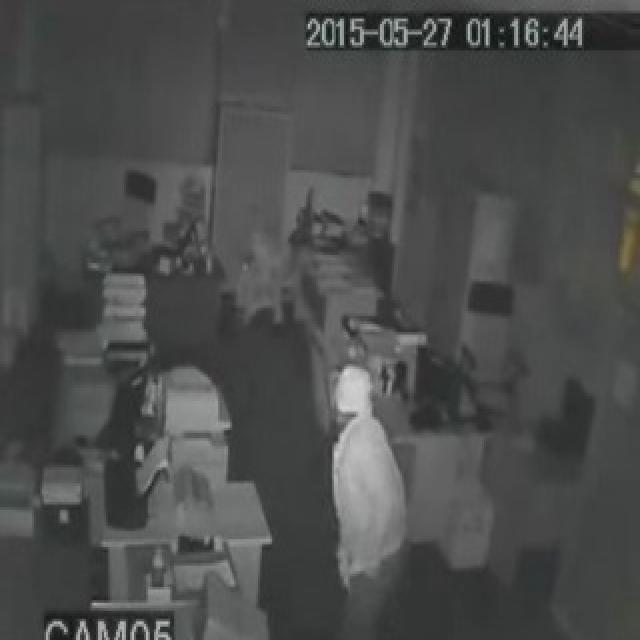thief: (314, 351, 416, 613), (236, 224, 300, 349)
